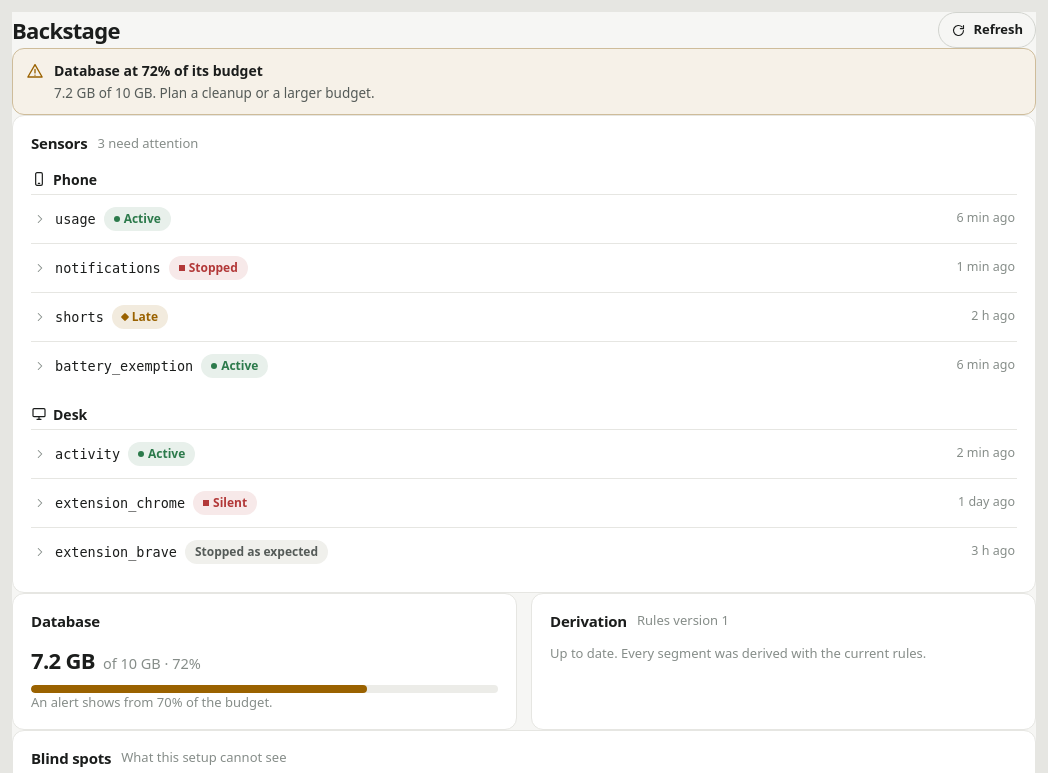
Backstage › shows a stopped sensor as stopped
The width and height of the screenshot is (1048, 773).
Expected: the text "notifications" is shown, x1=55 y1=258 x2=161 y2=278
Expected: the text "Stopped" is shown, x1=169 y1=256 x2=248 y2=280
Step 1. Click the button "notifications Stopped 1 min ago" → [108, 268], box x1=31 y1=244 x2=1017 y2=292
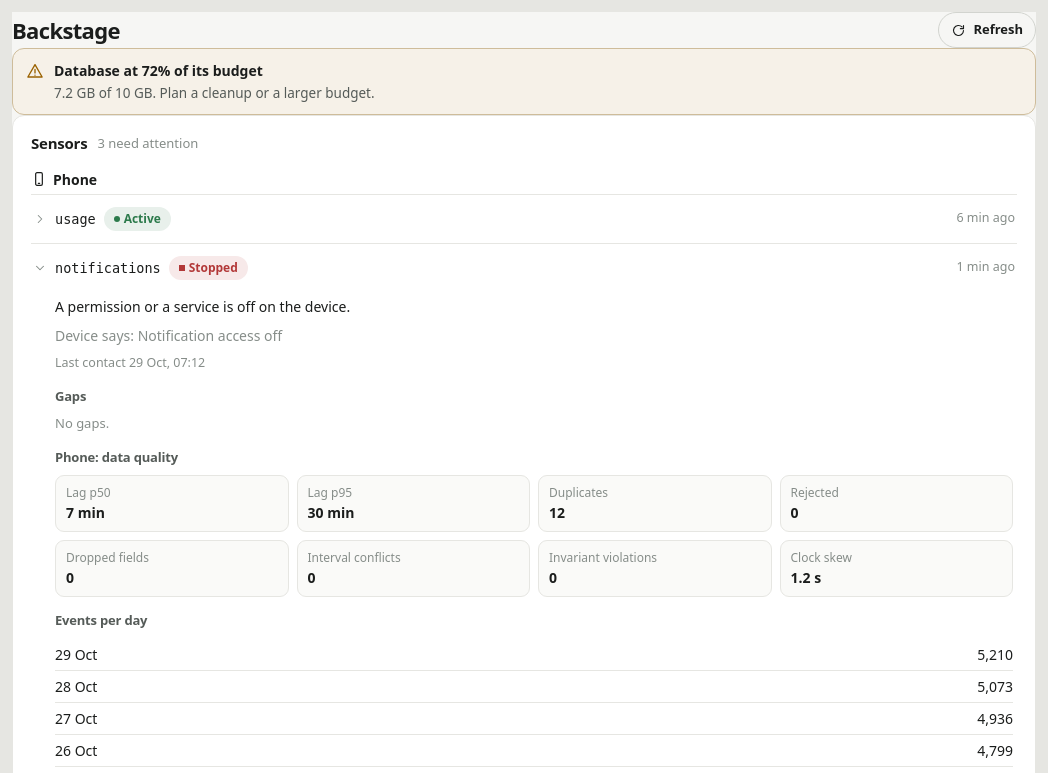
Result: the text "A permission or a service is off on the device." is shown at x1=55 y1=297 x2=350 y2=316
Result: the text "Notification access off" is shown at x1=138 y1=326 x2=282 y2=345
